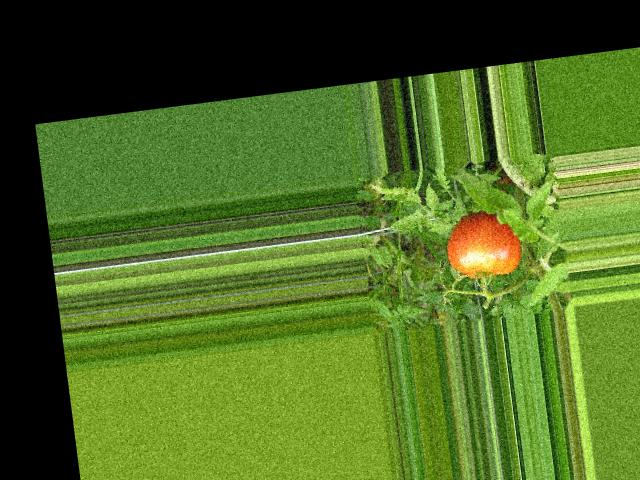tomato: (443, 208, 523, 282)
